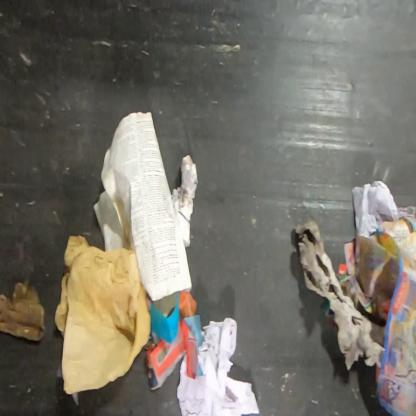cardboard: (293, 219, 386, 373), (0, 281, 47, 343)
soft_plastic: (351, 179, 415, 240)
